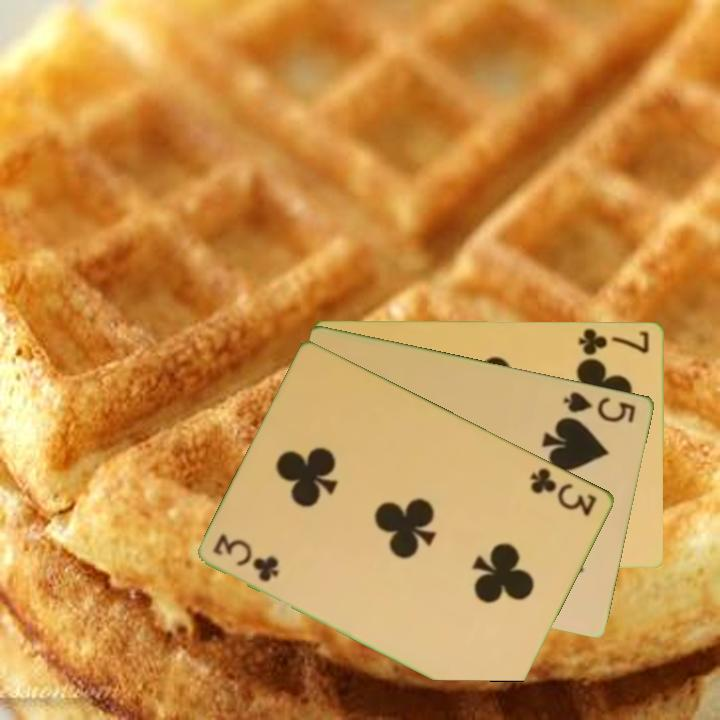3c: (526, 463, 601, 519), (209, 530, 282, 585)
5s: (560, 387, 639, 425)
7c: (576, 325, 653, 358)
